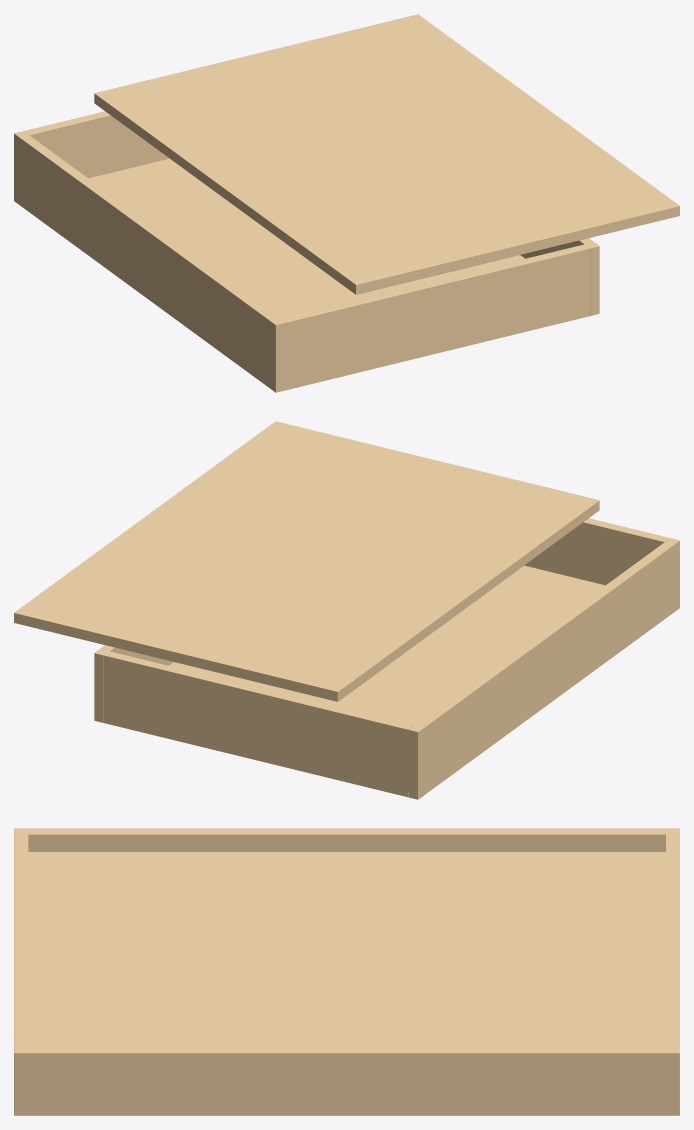
Rendered from skrzynka.fbx.
The picture shows the model from 3 angles, top to bottom: view 1: azimuth 30°, elevation 25°; view 2: azimuth 150°, elevation 25°; view 3: azimuth 270°, elevation 25°; orthographic projection. The views are drawn at different scales.
Visible parts, largest first — view 1: Object_10, Object_8, Object_11, Object_9, Object_13, Object_12; view 2: Object_10, Object_13, Object_11, Object_9, Object_8, Object_12; view 3: Object_10, Object_12, Object_11.
Boxes of the visible parts, x1,y1,x2,y2 form: Object_10: (94,14,679,294); Object_8: (280,244,589,390); Object_11: (14,131,285,392); Object_9: (88,158,524,318); Object_13: (24,111,169,178); Object_12: (520,238,599,315); Object_10: (14,421,599,701); Object_13: (104,651,413,797); Object_11: (408,538,679,799); Object_9: (169,565,605,786); Object_8: (524,518,669,585); Object_12: (94,645,173,722); Object_10: (14,852,679,1065); Object_12: (14,1065,679,1115); Object_11: (14,828,679,851).
Bounding box in the file's own units: 62.38 × 13.04 × 70.
